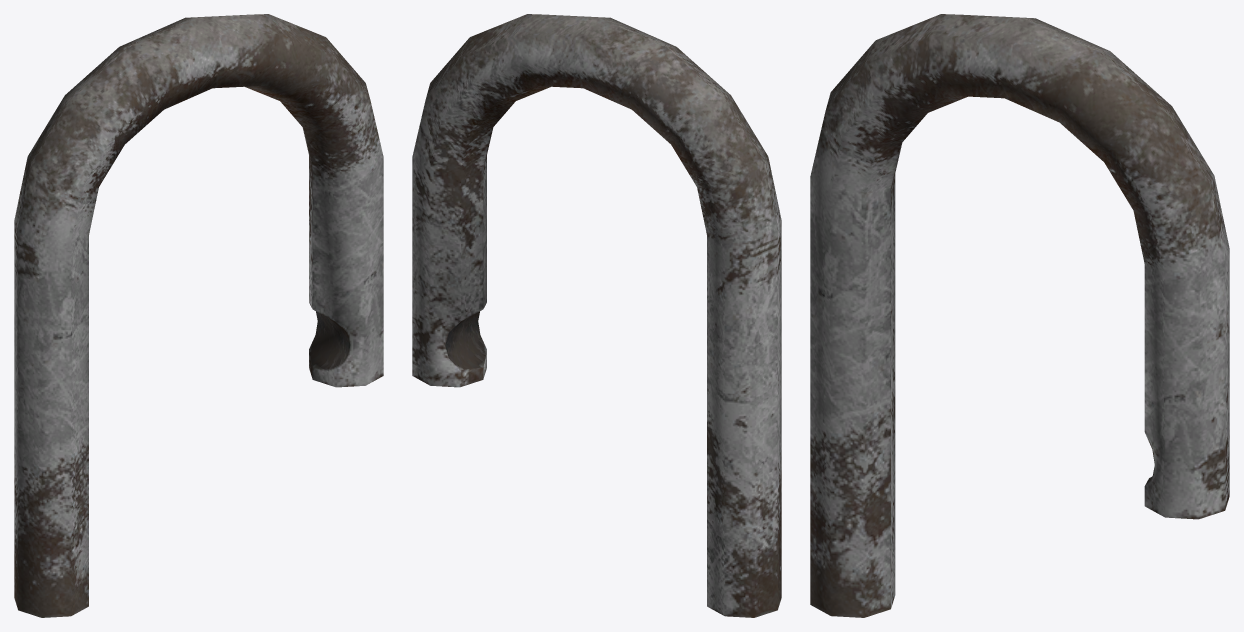
Rendered from padLock_Shank.FBX.
3 views of the same model, side by side, from view 1: azimuth 30°, elevation 25°; view 2: azimuth 150°, elevation 25°; view 3: azimuth 330°, elevation 25° (orthographic). The views are drawn at different scales.
Parts seen in each view (by area): view 1: SM_Padlock_Shank; view 2: SM_Padlock_Shank; view 3: SM_Padlock_Shank.
Part boxes in pixels (<box>): SM_Padlock_Shank: <box>14,14,383,617</box>; SM_Padlock_Shank: <box>412,14,781,617</box>; SM_Padlock_Shank: <box>810,14,1229,617</box>.
Size of the model in its own units: 3.93 by 5.7 by 0.7288.
1 material, 1 textured.
